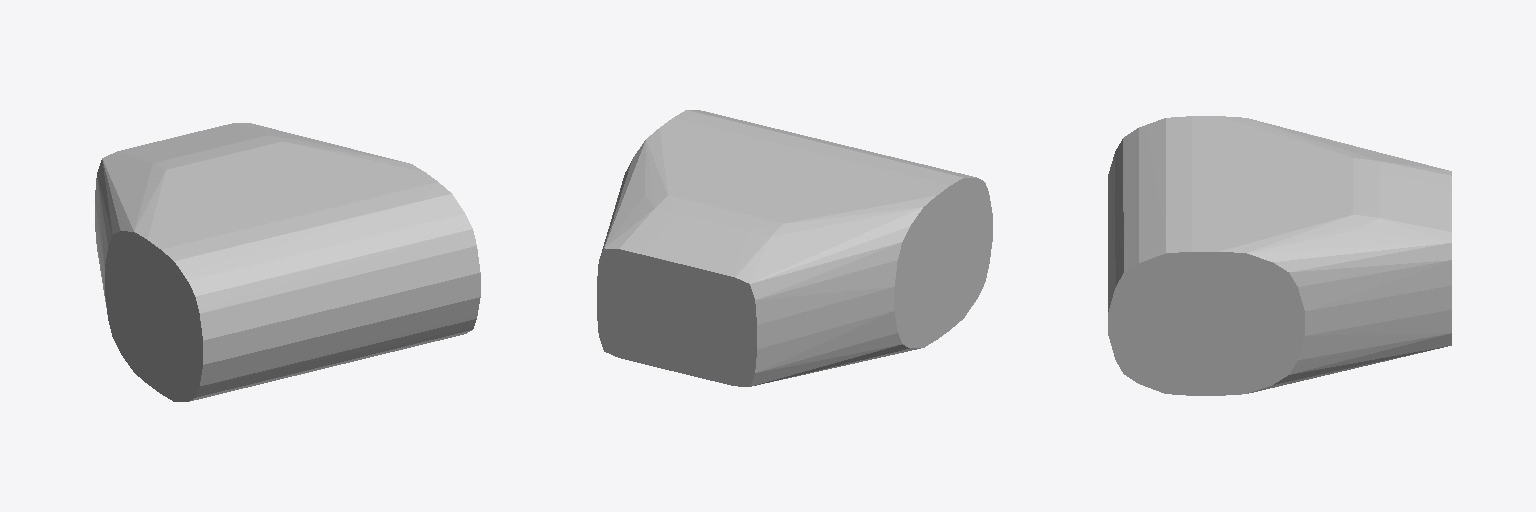
Rendered from wagon_V2_top-handle-original v1_collision_3.obj.
3 views of the same model, side by side, from view 1: azimuth 30°, elevation 25°; view 2: azimuth 150°, elevation 25°; view 3: azimuth 270°, elevation 25° (orthographic).
Bounding box in the file's own units: 4.94 × 2.45 × 5.3.